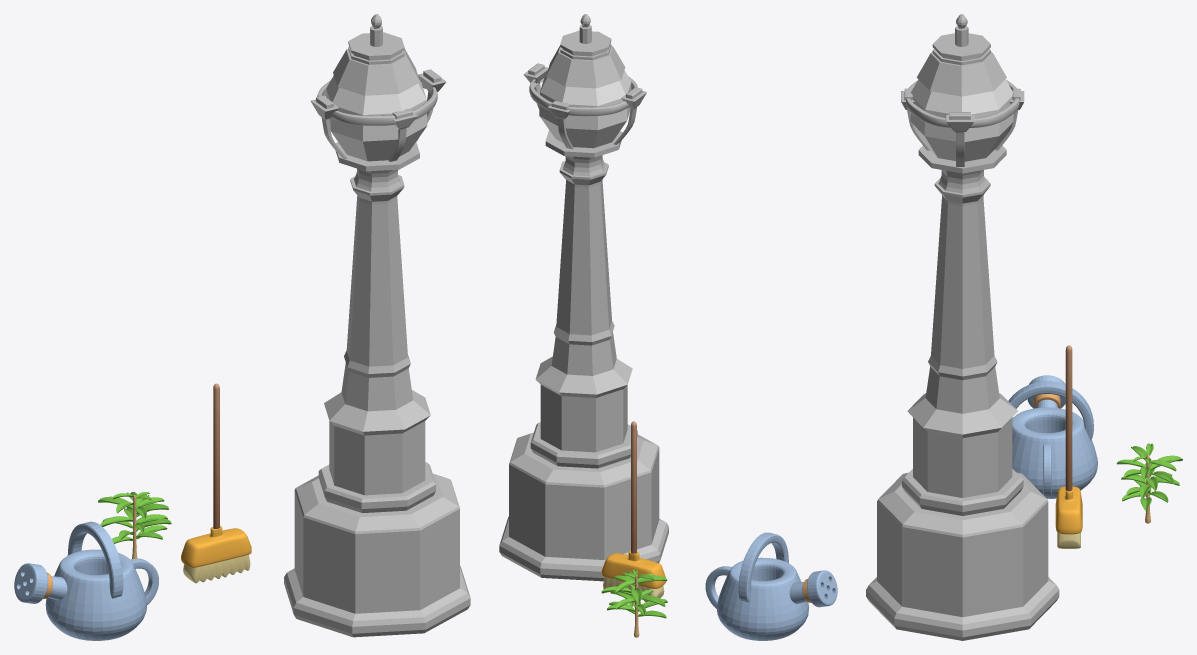
File: PlantWaterBroomFix01 (1).fbx
The picture shows the model from 3 angles, left to right: view 1: azimuth 30°, elevation 25°; view 2: azimuth 150°, elevation 25°; view 3: azimuth 270°, elevation 25°; orthographic projection. The views are drawn at different scales.
Visible parts, largest first — view 1: StreetLamp001.001, Circle.068, Broom, Plane.084; view 2: StreetLamp001.001, Circle.068, Broom, Plane.084; view 3: StreetLamp001.001, Circle.068, Broom, Plane.084.
Part boxes in pixels (x1,y1,x2,y2): StreetLamp001.001: [284, 14, 470, 637]; Circle.068: [14, 521, 158, 640]; Broom: [181, 383, 251, 583]; Plane.084: [98, 492, 171, 558]; StreetLamp001.001: [499, 14, 668, 581]; Circle.068: [705, 532, 837, 640]; Broom: [601, 421, 665, 602]; Plane.084: [607, 569, 667, 637]; StreetLamp001.001: [866, 14, 1059, 640]; Circle.068: [1008, 375, 1097, 498]; Broom: [1055, 345, 1082, 548]; Plane.084: [1116, 443, 1182, 523].
Bounding box in the file's own units: 902 × 1264 × 619.
Materials: 7 (1 with a texture image).
